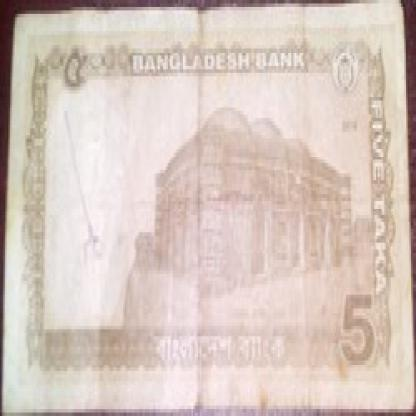Five Taka: (364, 87, 393, 298), (336, 284, 380, 374), (60, 35, 88, 100)
